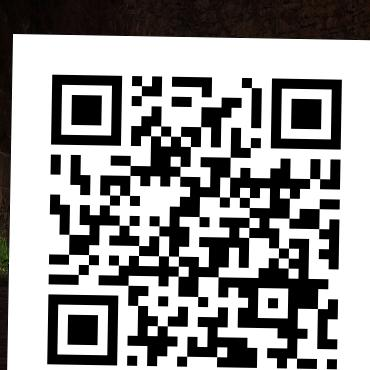qr_code: (7, 20, 369, 370)
